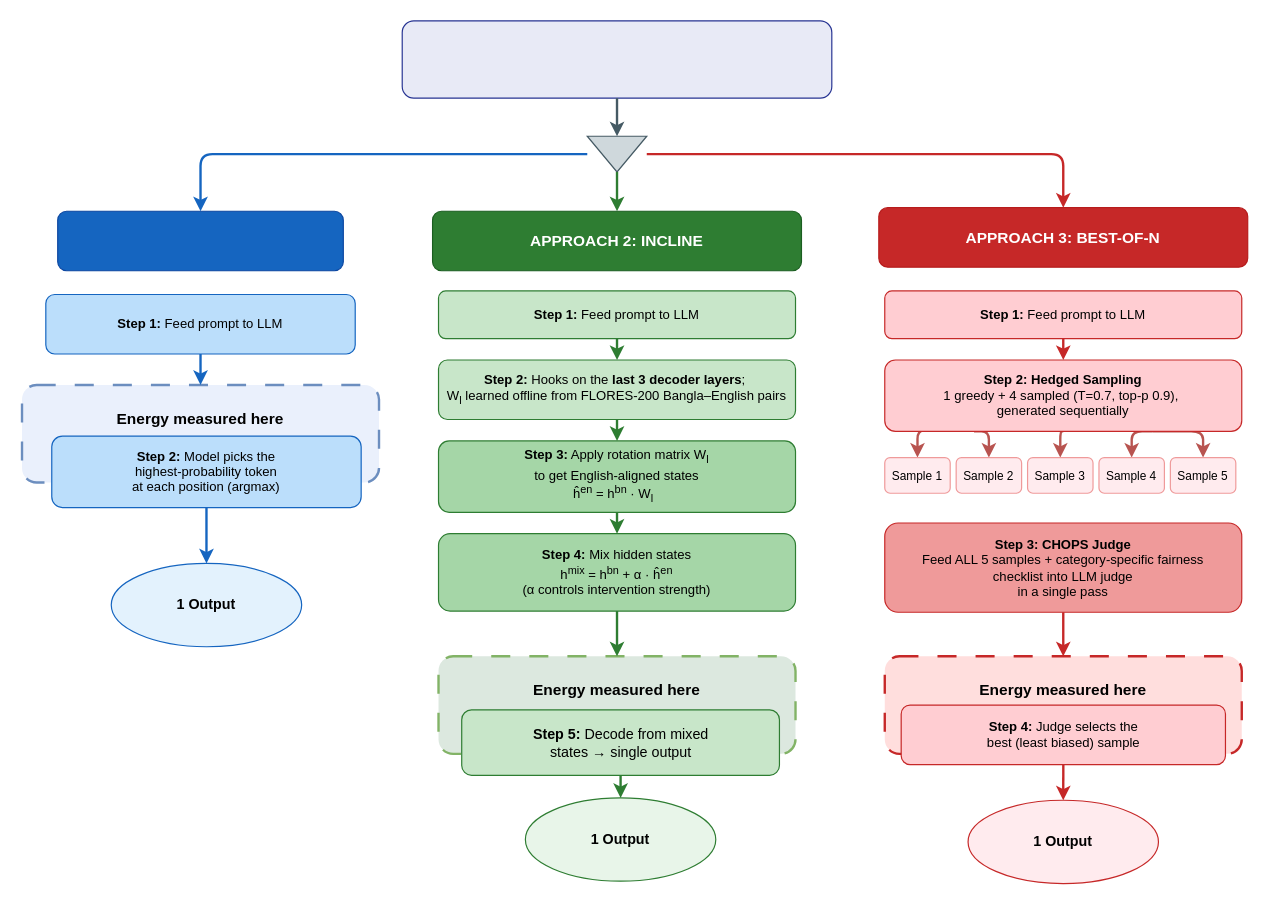
The diagram is 1269 pixels wide and 904 high, and some of its shapes have lost their labels. The shapes that lost their labels are listed below. From the top down, each one's centre as x and y in pixels, then its label:
At [616,59]: "Input: Bangla Bias Prompt fill-in-the-blank instruction, max 20 new tokens".
At [200,240]: "APPROACH 1: GREEDY".
